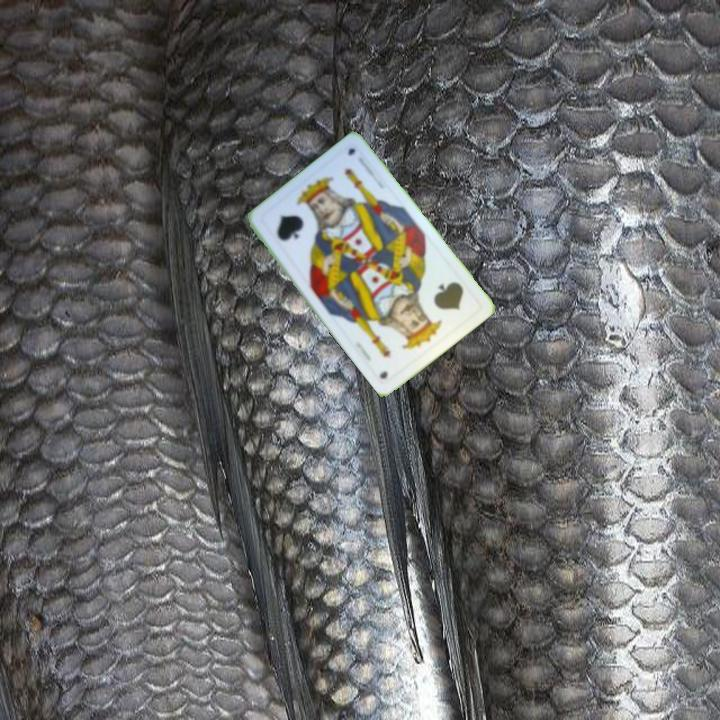s_k.png: (255, 180, 341, 265), (398, 263, 484, 348)
